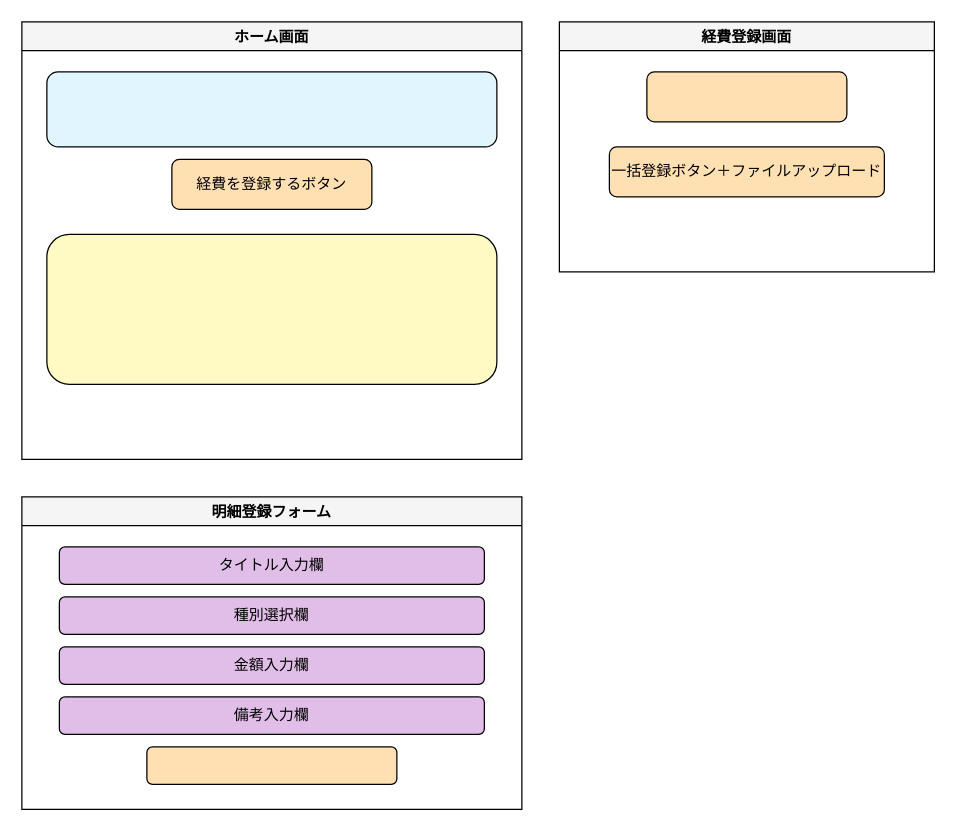
The diagram is 956 pixels wide and 831 high, and some of its shapes have lost their labels. Here are the shapes that lost their labels. From the top down, the centre of each, then its label:
point (271, 109): ダッシュボード（今月の経費/申請件数/処理率）
point (746, 96): 1件ずつ登録ボタン
point (271, 308): 最近の経費リスト（テーブル）
point (271, 765): 戻る／登録するボタン
